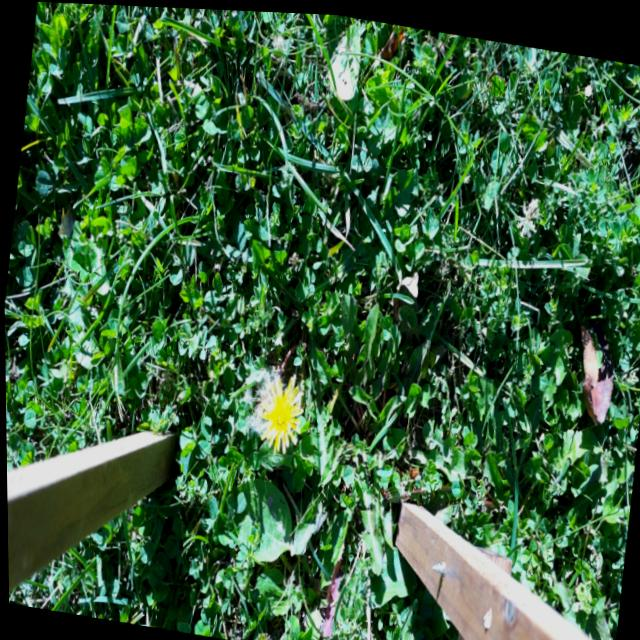base: (294, 325, 316, 359)
flower: (254, 368, 306, 456)
